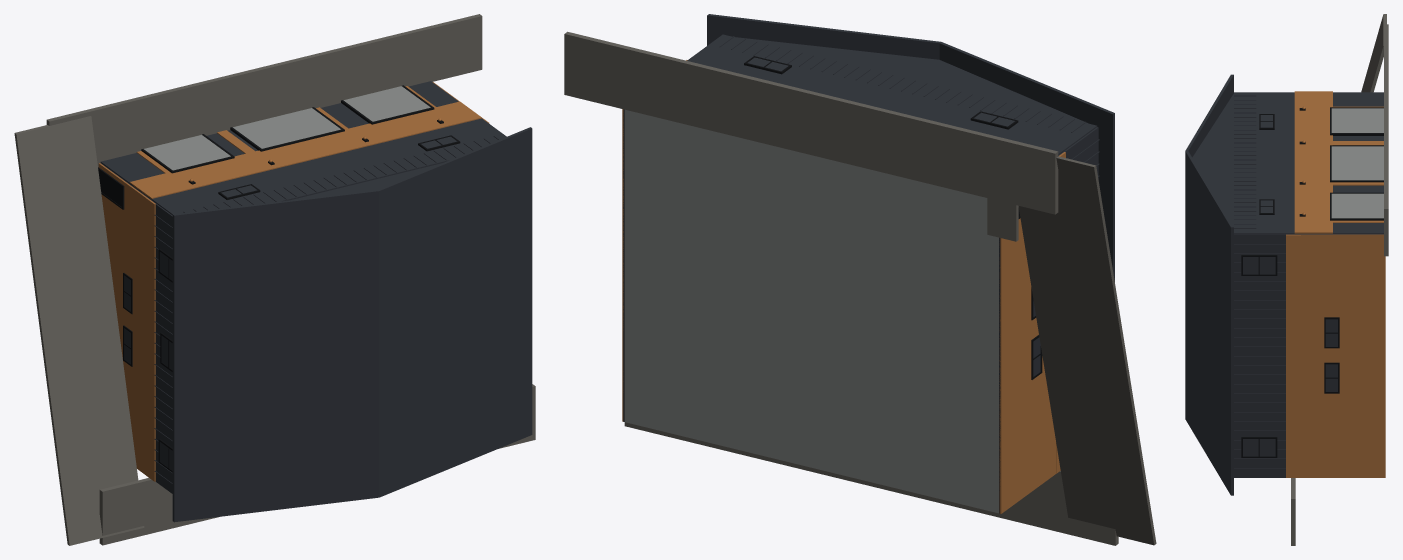
File: walid_warehouse.obj
3 renders of one model, left to right at view 1: azimuth 30°, elevation 25°; view 2: azimuth 150°, elevation 25°; view 3: azimuth 270°, elevation 25°, orthographic. The views are drawn at different scales.
Bounding box in the file's own units: 21.77 × 17.18 × 9.4.
